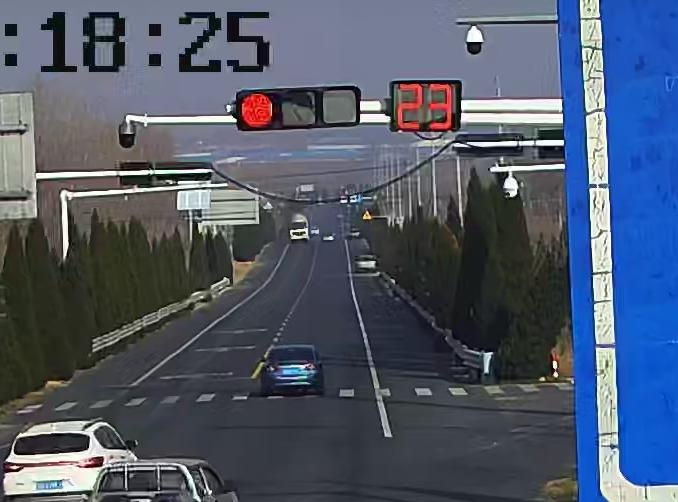red: (240, 92, 275, 129)
redtime: (396, 83, 457, 131)
